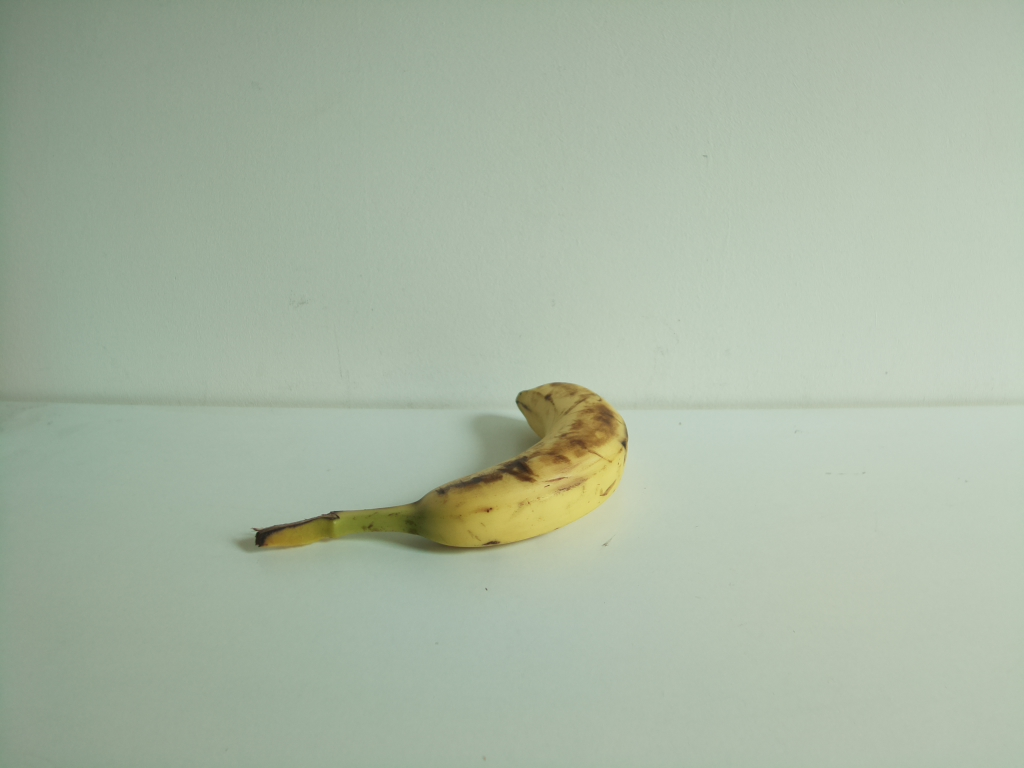banana: (249, 384, 631, 554)
